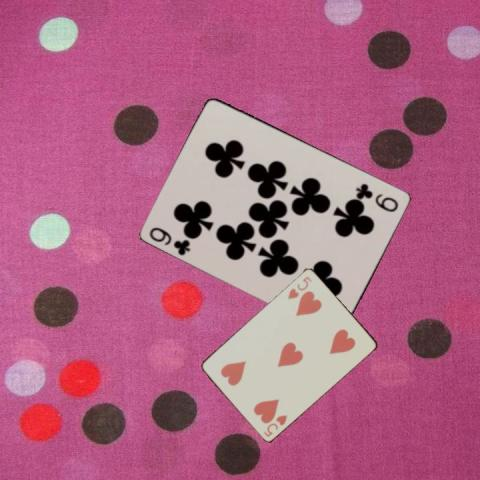5h: (285, 273, 313, 300), (260, 411, 288, 438)
9c: (353, 180, 400, 213), (147, 223, 192, 257)
